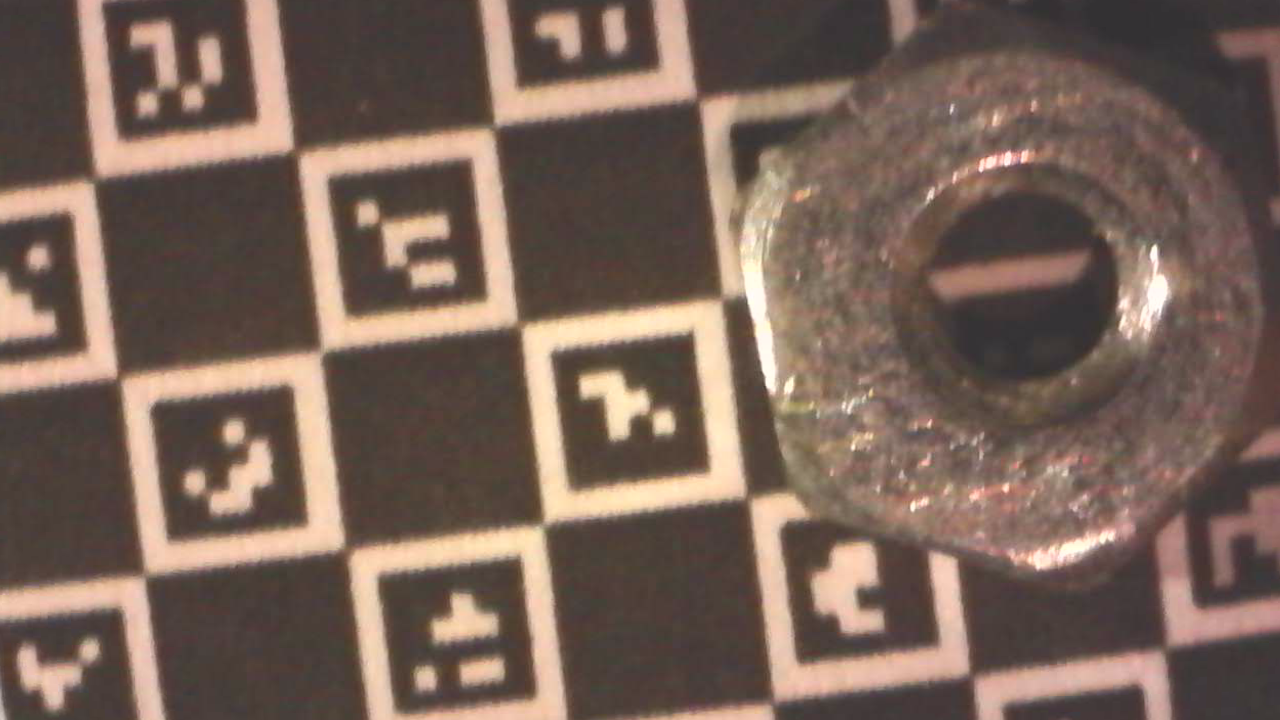Bolt: (747, 7, 1279, 599)
